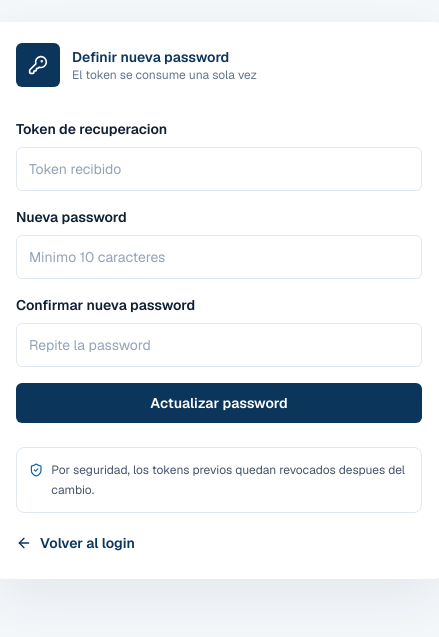
it: Password reset › blocks mismatched confirmation before confirming token
Type "reset-token" into the field labelled "Token de recuperacion" at [219, 168], box [16, 146, 422, 190]
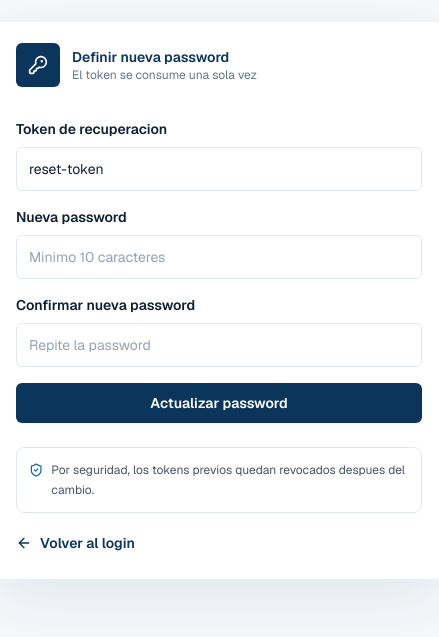
Type "NewPilotPassword123!" into the password field labelled "Nueva password" at [219, 256], box [16, 234, 422, 278]
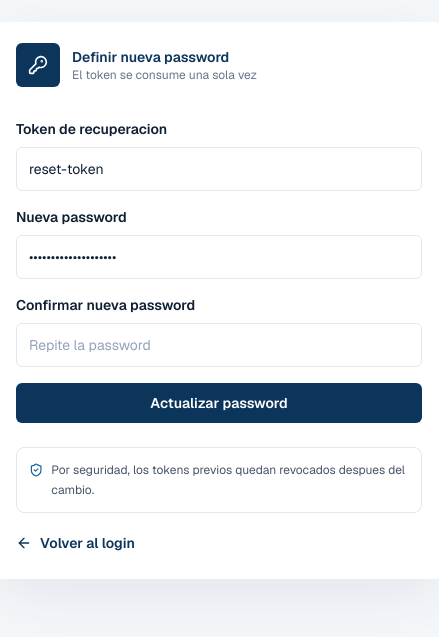
Type "DifferentPassword123!" into the password field labelled "Confirmar nueva password" at [219, 344], box [16, 322, 422, 366]
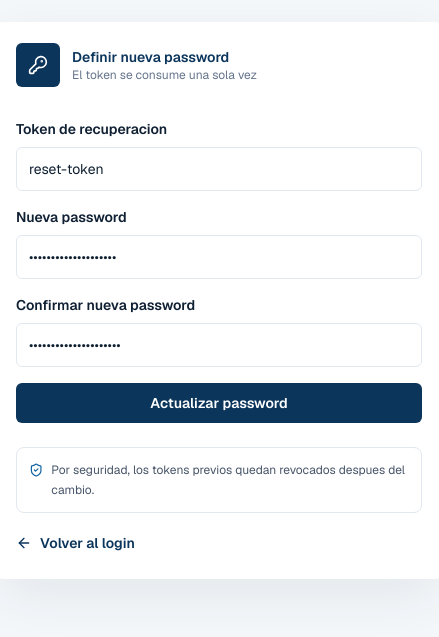
Click the button "Actualizar password" at [219, 402], box [16, 382, 422, 422]
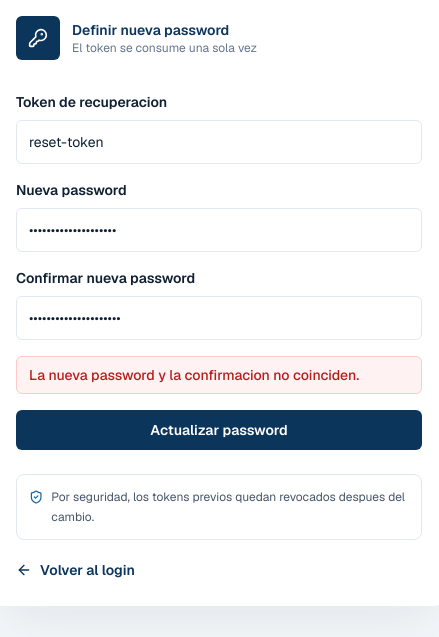
Check: the text "La nueva password y la confirmacion no coinciden." is shown, box [16, 356, 422, 394]
